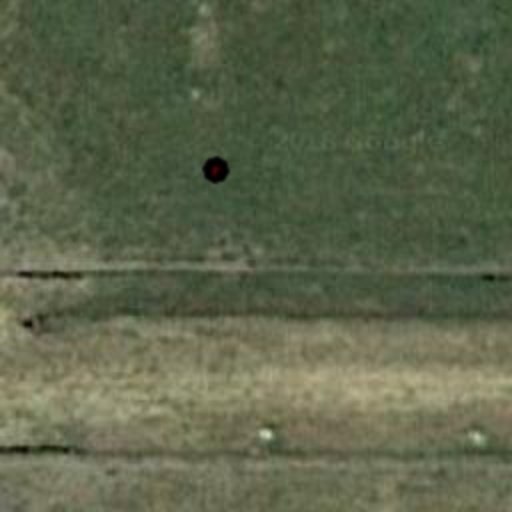octagon: (198, 152, 234, 188)
